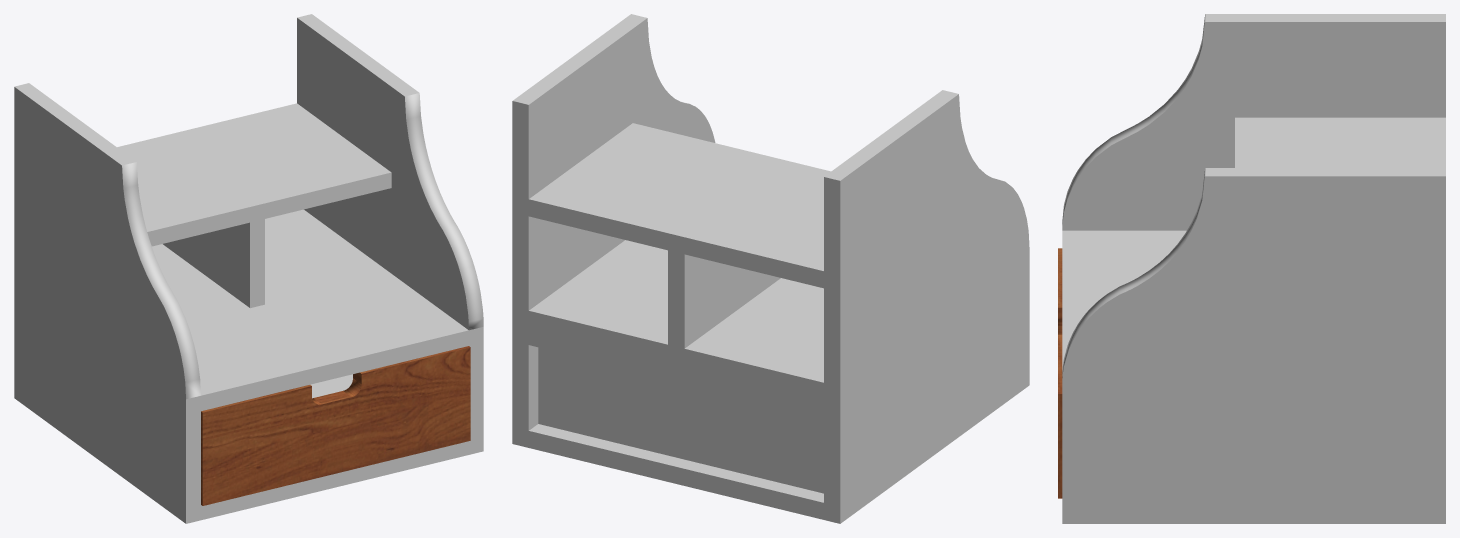
File: Gina.glb
3 views of the same model, side by side, from view 1: azimuth 30°, elevation 25°; view 2: azimuth 150°, elevation 25°; view 3: azimuth 270°, elevation 25° (orthographic). The views are drawn at different scales.
Parts seen in each view (by area): view 1: Sketchup, G-__557355, G-__557346; view 2: Sketchup; view 3: Sketchup, G-__557355.
Part boxes in pixels (x1=…): Sketchup: x1=14, y1=14, x2=483, y2=523; G-__557355: x1=201, y1=346, x2=470, y2=505; G-__557346: x1=310, y1=374, x2=352, y2=398; Sketchup: x1=512, y1=14, x2=1029, y2=523; Sketchup: x1=1062, y1=14, x2=1445, y2=523; G-__557355: x1=1058, y1=248, x2=1062, y2=498.
Size of the model in its own units: 0.3 by 0.3 by 0.3032.
Materials: 2 (1 with a texture image).
